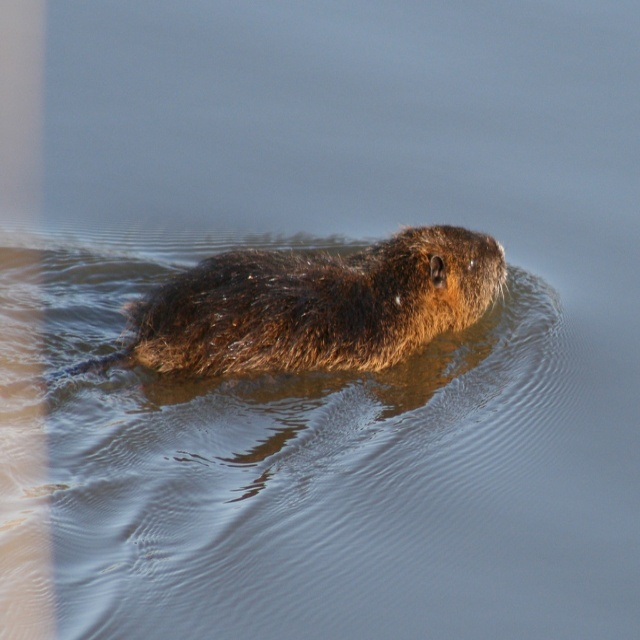Otter: (95, 224, 507, 375)
